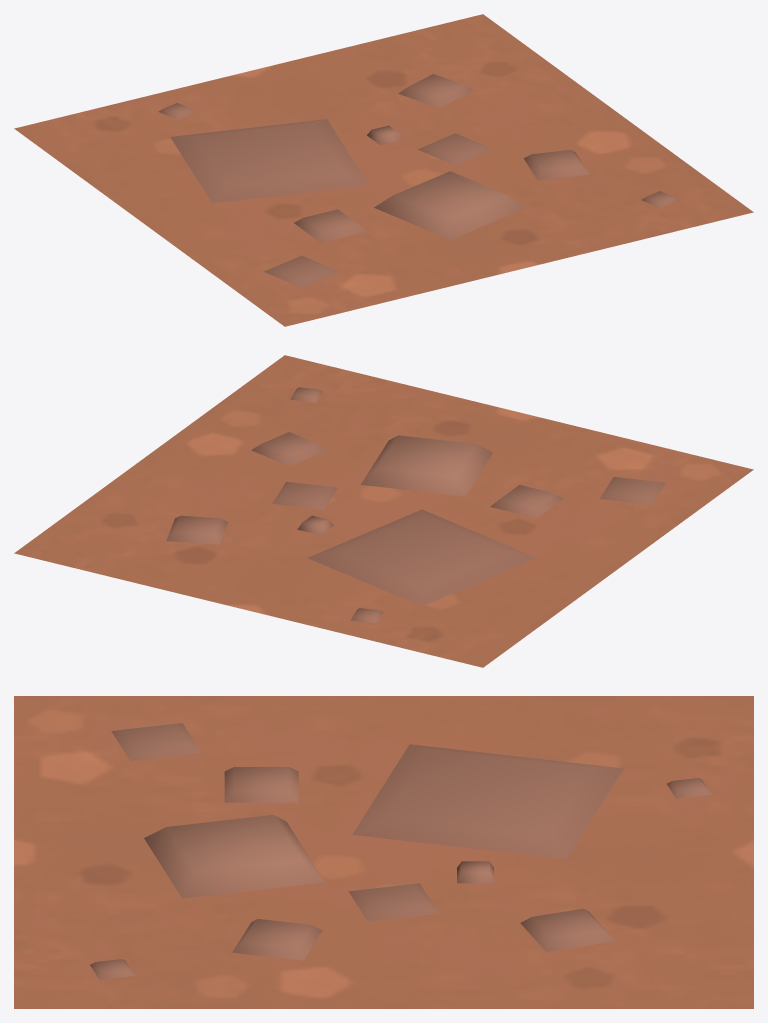
Rendered from template-floor-detail-a.obj.
3 views of the same model, one above another, from view 1: azimuth 30°, elevation 25°; view 2: azimuth 150°, elevation 25°; view 3: azimuth 270°, elevation 25° (orthographic). The views are drawn at different scales.
Visible parts, largest first — view 1: template-floor-detail-a; view 2: template-floor-detail-a; view 3: template-floor-detail-a.
Part boxes in pixels (x1,y1,x2,y2): template-floor-detail-a: (14, 14, 753, 326); template-floor-detail-a: (14, 355, 753, 667); template-floor-detail-a: (14, 696, 753, 1008).
Size of the model in its own units: 4 by 0.1 by 4.
1 material, 1 textured.
